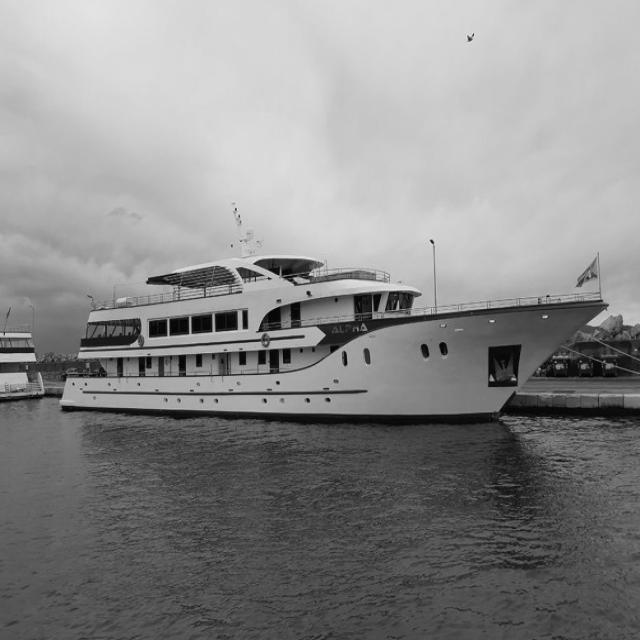cruises: (58, 245, 615, 438)
